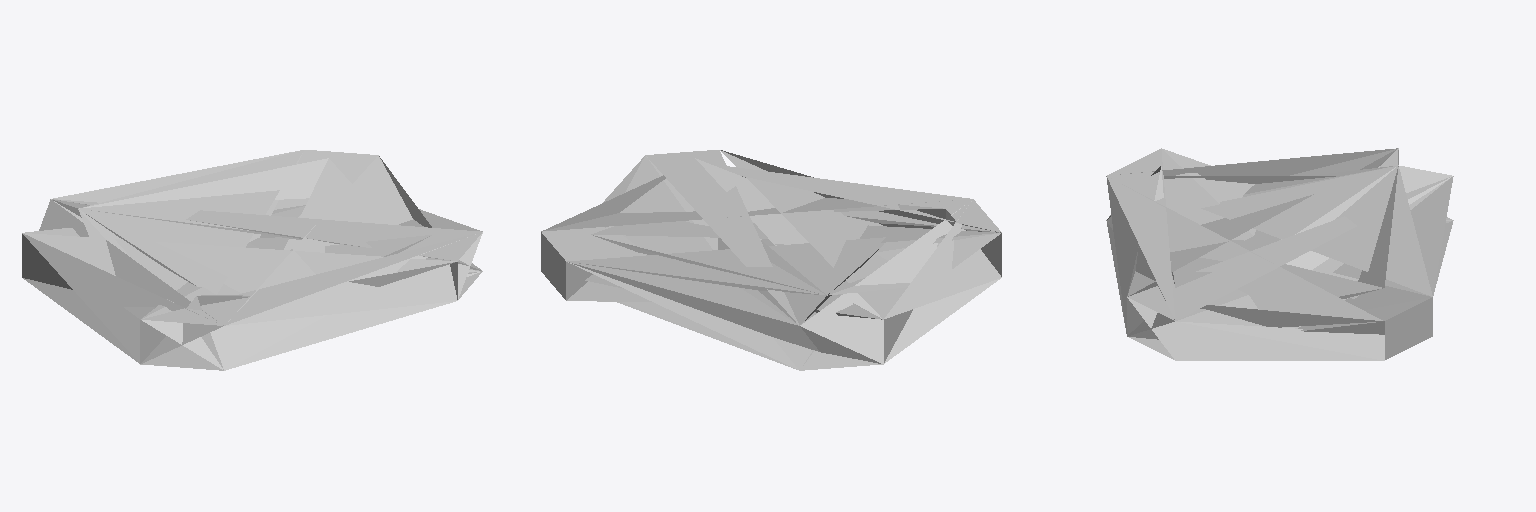
The model's file is palm.obj.
3 views of the same model, side by side, from view 1: azimuth 30°, elevation 25°; view 2: azimuth 150°, elevation 25°; view 3: azimuth 270°, elevation 25° (orthographic).
Parts seen in each view (by area): view 1: Palm; view 2: Palm; view 3: Palm.
Part boxes in pixels (x1,y1,x2,y2): Palm: (22, 150, 482, 370); Palm: (541, 150, 1001, 370); Palm: (1106, 148, 1453, 360).
Size of the model in its own units: 5.87 by 1.05 by 5.05.